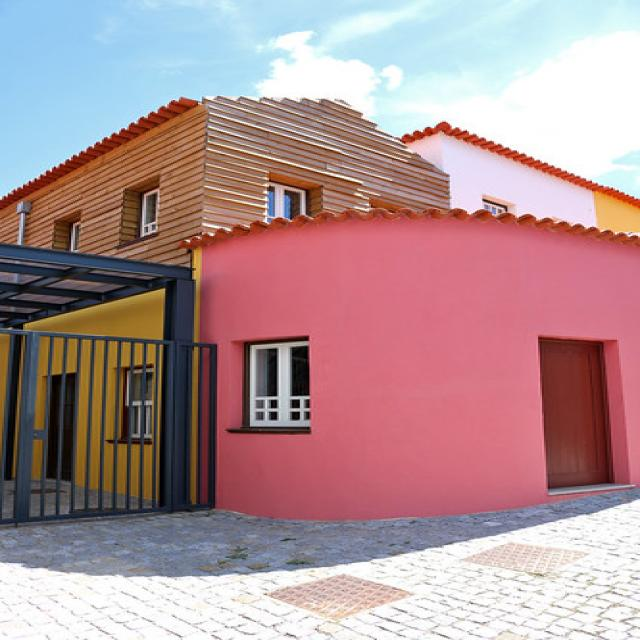building: (7, 86, 637, 522)
